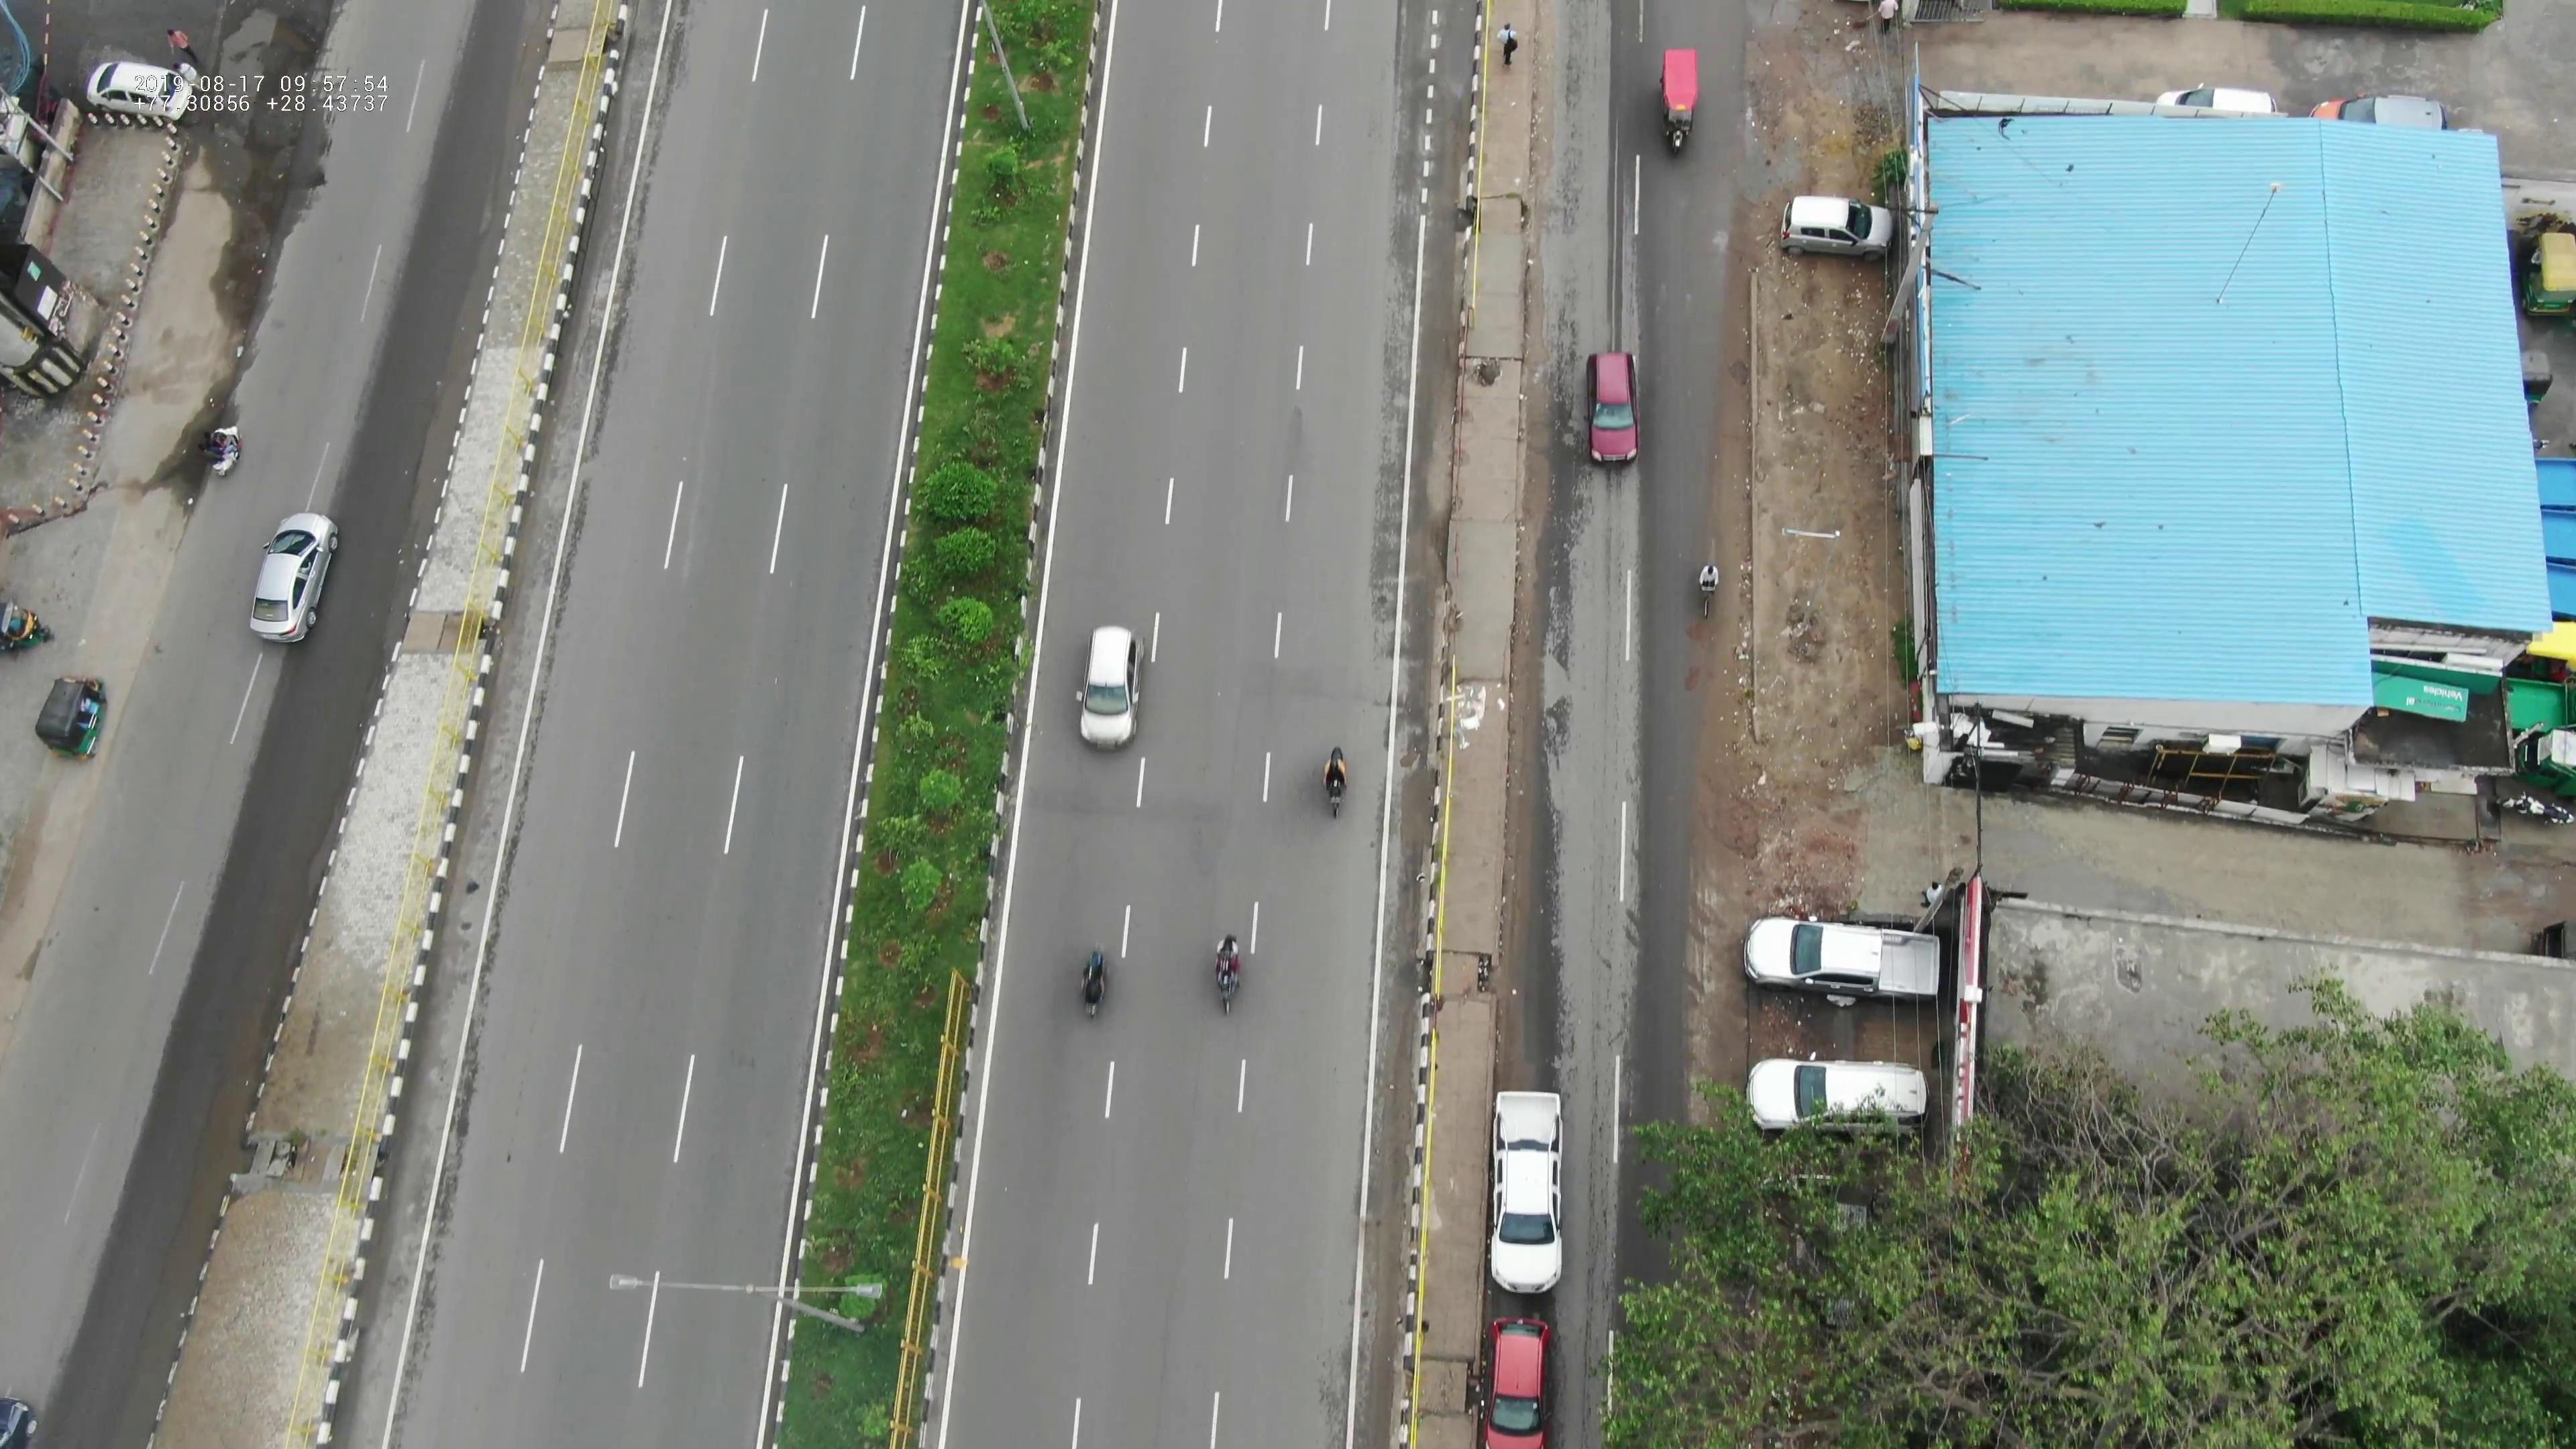Muddy_road: (1695, 258, 1767, 531), (1681, 640, 1753, 858)
